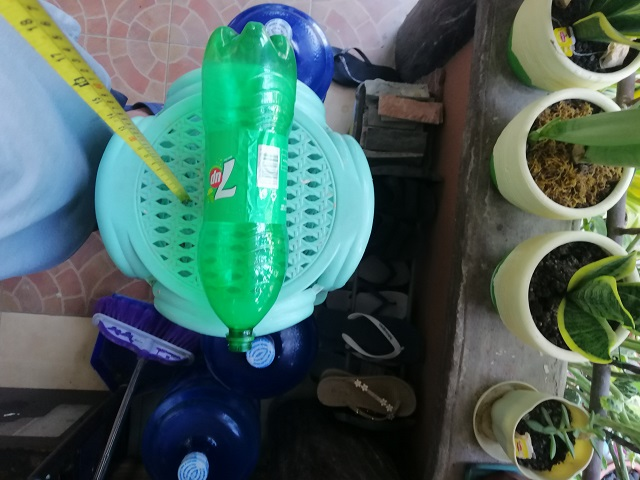bottle: (200, 21, 296, 353), (147, 377, 261, 480)
plant: (489, 230, 640, 364), (490, 88, 640, 209), (468, 378, 611, 480)
